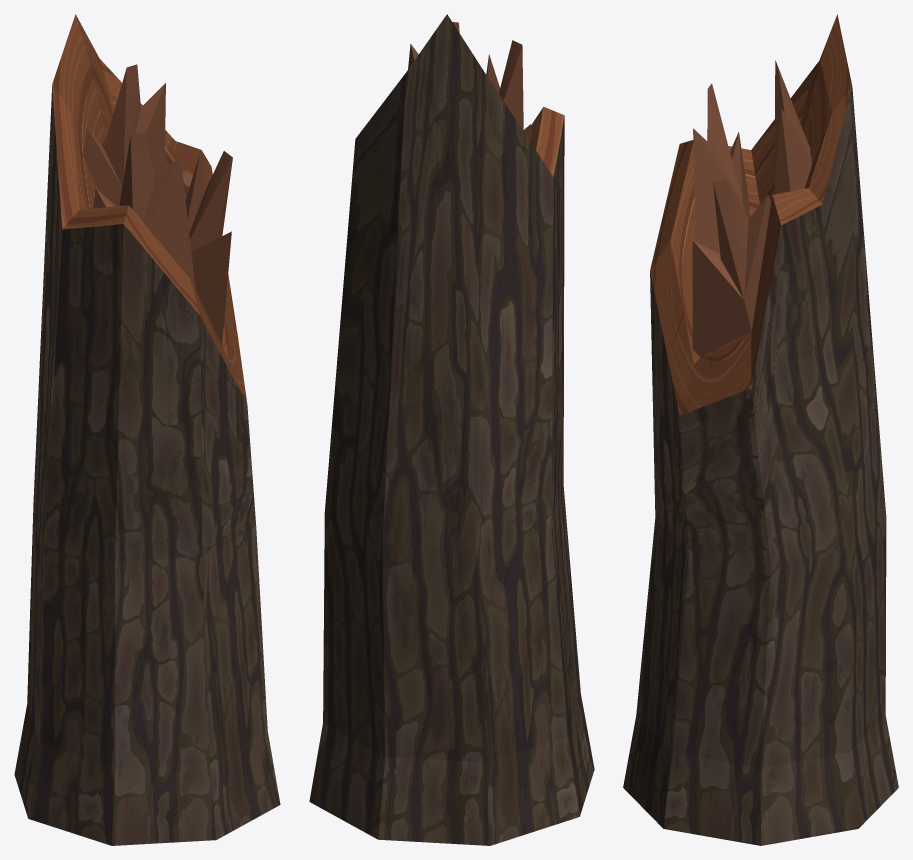
The model's file is Tree_Stump_04.fbx.
3 renders of one model, left to right at view 1: azimuth 30°, elevation 25°; view 2: azimuth 150°, elevation 25°; view 3: azimuth 270°, elevation 25°, orthographic. The views are drawn at different scales.
Visible parts, largest first — view 1: SM_Tree_Stump_04; view 2: SM_Tree_Stump_04; view 3: SM_Tree_Stump_04.
Part boxes in pixels (x1,y1,x2,y2): SM_Tree_Stump_04: [14, 14, 280, 845]; SM_Tree_Stump_04: [309, 14, 594, 845]; SM_Tree_Stump_04: [623, 14, 898, 845].
Bounding box in the file's own units: 39.63 × 120 × 39.63.
